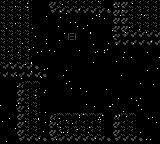no-caminable: (113, 1, 159, 45), (17, 82, 48, 140), (0, 1, 30, 60), (50, 0, 113, 13)
puerta: (67, 33, 76, 40)
